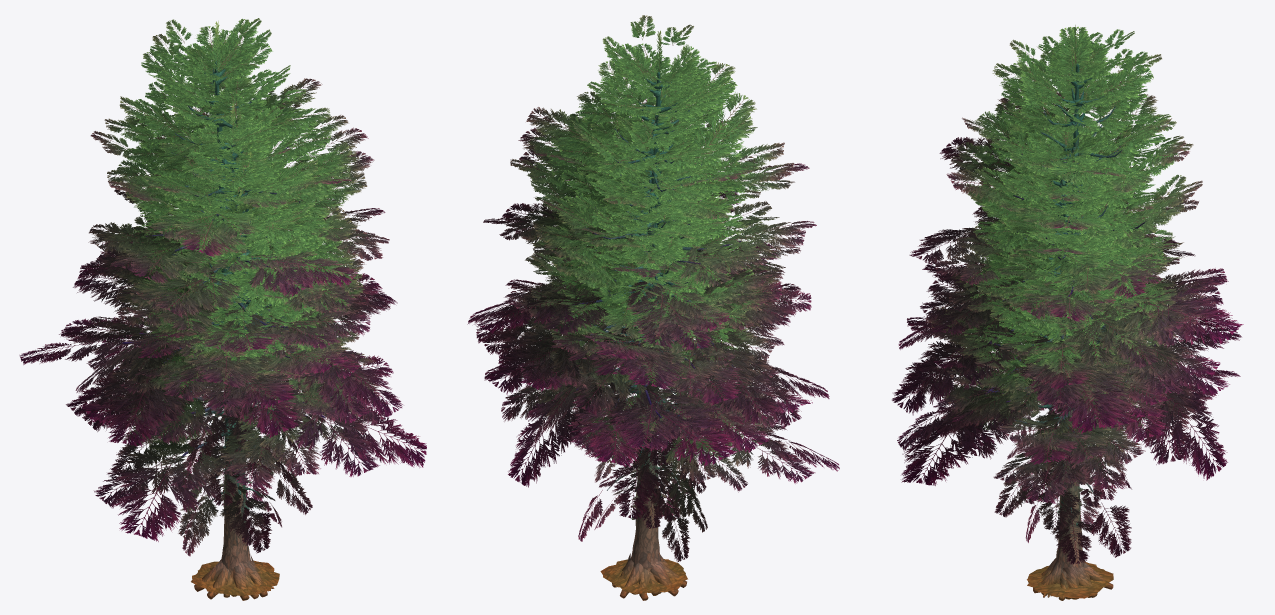
The model's file is hero-pine-near.glb.
3 renders of one model, left to right at view 1: azimuth 30°, elevation 25°; view 2: azimuth 150°, elevation 25°; view 3: azimuth 270°, elevation 25°, orthographic.
Visible parts, largest first — view 1: v2-leaf, v0-leaf, v1-leaf, v3-leaf, v2-wood, v1-wood, v3-wood, v0-wood; view 2: v2-leaf, v1-leaf, v3-leaf, v0-leaf, v2-wood, v1-wood, v3-wood; view 3: v2-leaf, v3-leaf, v1-leaf, v0-leaf, v2-wood, v1-wood, v3-wood, v0-wood.
Boxes of the visible parts, x1=… form: v2-leaf: x1=19, y1=18, x2=426, y2=505; v0-leaf: x1=94, y1=189, x2=393, y2=556; v1-leaf: x1=61, y1=92, x2=382, y2=504; v3-leaf: x1=66, y1=147, x2=392, y2=553; v2-wood: x1=122, y1=61, x2=324, y2=599; v1-wood: x1=139, y1=144, x2=278, y2=600; v3-wood: x1=179, y1=194, x2=304, y2=597; v0-wood: x1=180, y1=233, x2=306, y2=596; v2-leaf: x1=467, y1=15, x2=829, y2=518; v1-leaf: x1=482, y1=103, x2=811, y2=541; v3-leaf: x1=484, y1=152, x2=812, y2=528; v0-leaf: x1=498, y1=189, x2=839, y2=562; v2-wood: x1=572, y1=72, x2=741, y2=598; v1-wood: x1=596, y1=148, x2=695, y2=600; v3-wood: x1=591, y1=209, x2=699, y2=595; v2-leaf: x1=892, y1=25, x2=1243, y2=504; v3-leaf: x1=899, y1=169, x2=1240, y2=542; v1-leaf: x1=907, y1=111, x2=1227, y2=557; v0-leaf: x1=925, y1=187, x2=1220, y2=564; v2-wood: x1=985, y1=63, x2=1155, y2=599; v1-wood: x1=1017, y1=147, x2=1113, y2=599; v3-wood: x1=982, y1=200, x2=1128, y2=600; v0-wood: x1=1002, y1=231, x2=1108, y2=595.
Size of the model in its own units: 16.13 by 24.88 by 15.64.
2 materials, 2 textured.
